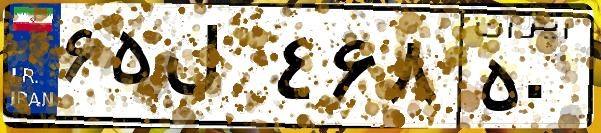0: (525, 38, 570, 115)
4: (270, 28, 330, 110)
5: (475, 38, 525, 113), (110, 28, 158, 98)
6: (330, 28, 385, 110), (57, 26, 110, 100)
8: (385, 28, 445, 110)
ل: (158, 20, 270, 120)
